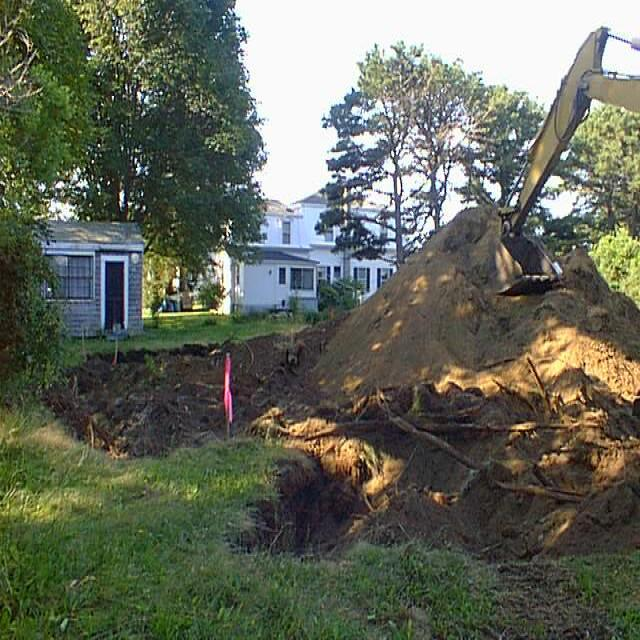Excavadora: (470, 9, 639, 298)
